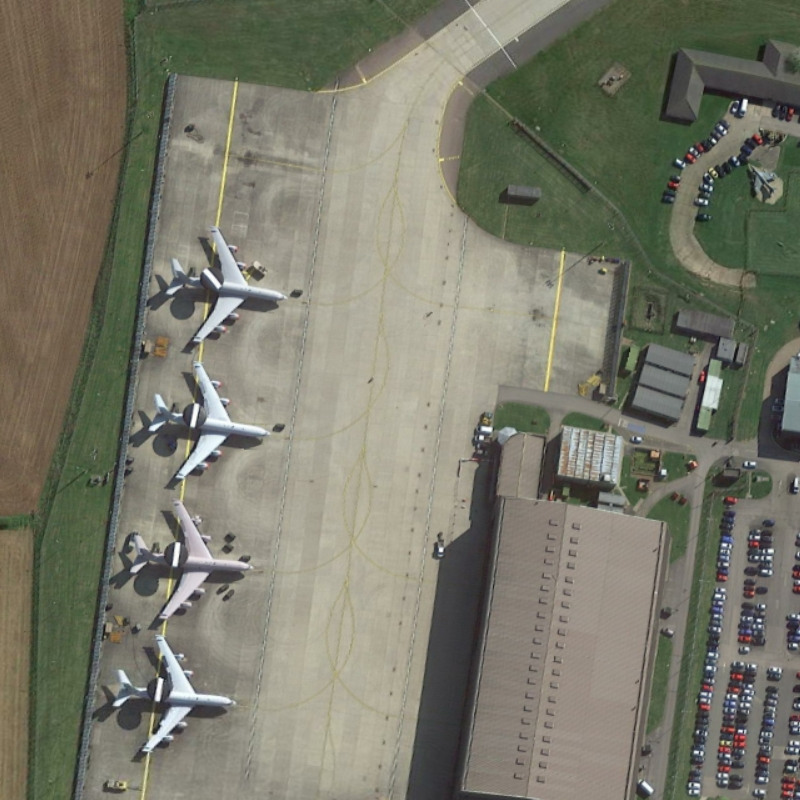A7: (117, 494, 259, 628), (156, 220, 297, 354), (101, 628, 243, 760), (139, 360, 281, 484)
